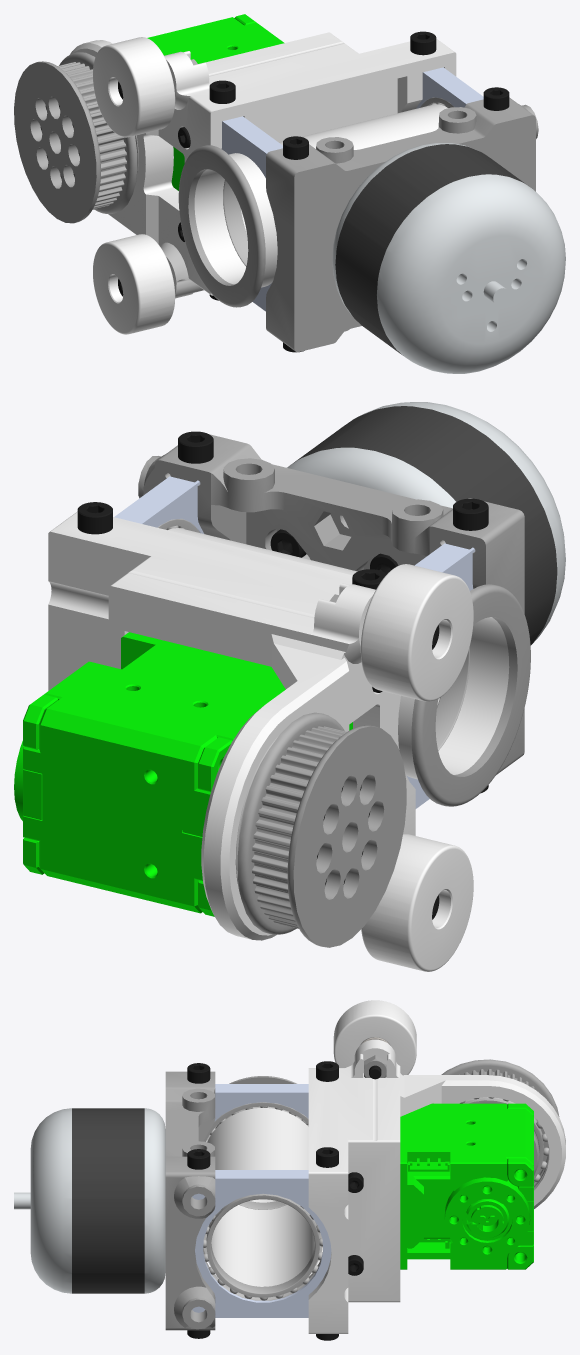
Rendered from gimbal3_link.dae.
3 views of the same model, one above another, from view 1: azimuth 30°, elevation 25°; view 2: azimuth 150°, elevation 25°; view 3: azimuth 270°, elevation 25° (orthographic). The views are drawn at different scales.
Visible parts, largest first — view 1: node9, node4, node8, node2, node0, node7, node1, node5; view 2: node9, node4, node0, node2, node8, node1, node7, node5; view 3: node9, node0, node2, node4, node8, node7, node5, node1.
Part boxes in pixels (x1=…): node9: x1=70, y1=32, x2=456, y2=334; node4: x1=14, y1=52, x2=538, y2=352; node8: x1=332, y1=143, x2=565, y2=373; node2: x1=335, y1=144, x2=526, y2=354; node0: x1=147, y1=14, x2=284, y2=190; node7: x1=222, y1=67, x2=483, y2=311; node1: x1=40, y1=31, x2=509, y2=352; node5: x1=135, y1=97, x2=454, y2=266; node9: x1=48, y1=511, x2=509, y2=971; node4: x1=138, y1=434, x2=530, y2=947; node0: x1=14, y1=632, x2=352, y2=916; node2: x1=291, y1=406, x2=557, y2=645; node8: x1=287, y1=402, x2=565, y2=642; node1: x1=77, y1=431, x2=488, y2=919; node7: x1=114, y1=476, x2=475, y2=808; node5: x1=157, y1=518, x2=469, y2=895; node9: x1=203, y1=1000, x2=565, y2=1333; node0: x1=400, y1=1103, x2=533, y2=1269; node2: x1=72, y1=1108, x2=144, y2=1293; node4: x1=165, y1=1059, x2=559, y2=1330; node8: x1=14, y1=1108, x2=165, y2=1293; node7: x1=192, y1=1084, x2=331, y2=1317; node5: x1=203, y1=1097, x2=549, y2=1300; node1: x1=187, y1=1061, x2=381, y2=1340.
Bounding box in the file's own units: 0.0765 × 0.066 × 0.1329.
